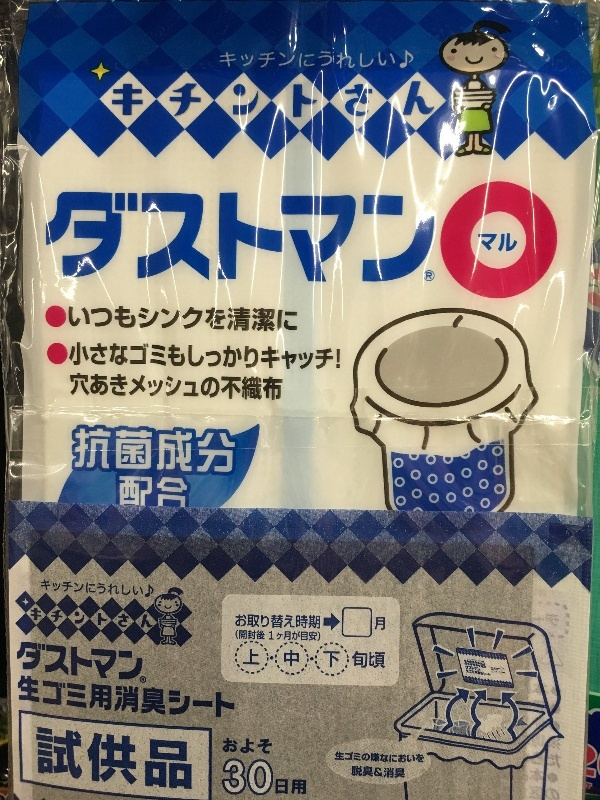text: (49, 183, 64, 289), (65, 183, 80, 289), (81, 183, 96, 289), (97, 183, 112, 289), (113, 183, 128, 289), (129, 183, 144, 289), (145, 183, 160, 289), (161, 183, 176, 289), (177, 183, 192, 289), (193, 183, 208, 289), (209, 183, 224, 289), (225, 183, 240, 289), (241, 183, 256, 289), (257, 183, 272, 289), (273, 183, 288, 289), (289, 183, 304, 289), (305, 183, 320, 289), (321, 183, 336, 289), (337, 183, 352, 289), (353, 183, 368, 289), (369, 183, 384, 289), (385, 183, 400, 289), (401, 183, 416, 289), (417, 183, 432, 289), (177, 724, 193, 794), (49, 724, 64, 794), (65, 724, 80, 794), (81, 724, 96, 794), (97, 724, 112, 794), (113, 724, 128, 794), (129, 724, 144, 794), (145, 724, 160, 794), (161, 724, 176, 794), (81, 423, 96, 479), (97, 423, 112, 479), (113, 423, 128, 479), (129, 423, 144, 479), (145, 423, 160, 479), (161, 423, 176, 479), (177, 423, 192, 479), (193, 423, 208, 479), (209, 423, 224, 479), (37, 724, 48, 794), (17, 673, 32, 724), (33, 673, 48, 724), (49, 673, 64, 724), (65, 673, 80, 724), (81, 673, 96, 724), (97, 673, 112, 724), (113, 673, 128, 724), (129, 673, 144, 724), (145, 673, 160, 724), (161, 673, 176, 724), (177, 673, 192, 724), (193, 673, 208, 724), (209, 673, 224, 724), (113, 75, 128, 122), (129, 75, 144, 122), (145, 75, 160, 122), (161, 75, 176, 122), (177, 75, 192, 122), (193, 75, 208, 122), (209, 75, 224, 122), (225, 75, 240, 122), (241, 75, 256, 122), (257, 75, 272, 122), (273, 75, 288, 122), (289, 75, 304, 122), (305, 75, 320, 122), (321, 75, 336, 122), (337, 75, 352, 122), (353, 75, 368, 122), (369, 75, 384, 122), (385, 75, 400, 122), (401, 75, 416, 122), (417, 75, 432, 122), (225, 423, 237, 479), (17, 640, 32, 684), (33, 640, 48, 684), (49, 640, 64, 684), (65, 640, 80, 684), (81, 640, 96, 684), (97, 640, 112, 684), (113, 640, 128, 684), (129, 640, 143, 684), (225, 673, 237, 724), (225, 758, 240, 796), (241, 758, 256, 796), (257, 758, 272, 796), (81, 369, 96, 405), (97, 369, 112, 405), (113, 369, 128, 405), (129, 369, 144, 405), (145, 369, 160, 405), (161, 369, 176, 405), (177, 369, 192, 405), (193, 369, 208, 405), (209, 369, 224, 405), (225, 369, 240, 405), (241, 369, 256, 405), (257, 369, 272, 405), (433, 183, 438, 289), (129, 475, 144, 510), (145, 475, 160, 510), (161, 475, 176, 510), (81, 304, 96, 336), (97, 304, 112, 336), (113, 304, 128, 336), (129, 304, 144, 336), (145, 304, 160, 336), (161, 304, 176, 336), (177, 304, 192, 336), (193, 304, 208, 336), (209, 304, 224, 336), (225, 304, 240, 336), (241, 304, 256, 336), (257, 304, 272, 336), (273, 304, 288, 336), (81, 342, 96, 373), (97, 342, 112, 373), (113, 342, 128, 373), (129, 342, 144, 373), (145, 342, 160, 373), (161, 342, 176, 373), (177, 342, 192, 373), (193, 342, 208, 373), (209, 342, 224, 373), (225, 342, 240, 373), (241, 342, 256, 373), (257, 342, 272, 373), (273, 342, 288, 373), (289, 342, 304, 373), (305, 342, 320, 373), (321, 342, 336, 373), (177, 475, 190, 510), (72, 423, 80, 479), (69, 369, 80, 405), (273, 369, 284, 405), (68, 304, 80, 336), (68, 342, 80, 373), (257, 736, 273, 758), (118, 475, 128, 510), (225, 48, 240, 71), (241, 48, 256, 71), (257, 48, 272, 71), (273, 48, 288, 71), (289, 48, 304, 71), (305, 48, 320, 71), (321, 48, 336, 71), (337, 48, 352, 71), (353, 48, 368, 71), (369, 48, 384, 71), (33, 607, 48, 630), (49, 607, 64, 630), (65, 607, 80, 630), (81, 607, 96, 630), (97, 607, 112, 630), (113, 607, 128, 630), (129, 607, 144, 630), (353, 649, 368, 671), (369, 649, 384, 671), (225, 736, 240, 758), (241, 736, 256, 758), (289, 304, 299, 336), (45, 183, 48, 289), (481, 233, 496, 254), (497, 233, 512, 254), (289, 776, 304, 797), (49, 578, 64, 598), (65, 578, 80, 598), (81, 578, 96, 598), (97, 578, 112, 598), (113, 578, 128, 598), (465, 659, 480, 678), (129, 578, 143, 598), (305, 615, 321, 631), (385, 48, 396, 71), (276, 776, 288, 797), (241, 615, 256, 631), (257, 615, 272, 631), (273, 615, 288, 631), (289, 615, 304, 631), (305, 628, 321, 643), (353, 764, 368, 780), (369, 764, 384, 780), (385, 764, 400, 780), (241, 628, 256, 643), (257, 628, 272, 643), (273, 628, 288, 643), (289, 628, 304, 643), (243, 649, 256, 666), (337, 751, 352, 765), (353, 751, 368, 765), (369, 751, 384, 765), (385, 751, 400, 765), (401, 751, 416, 765), (289, 649, 300, 668), (481, 659, 492, 678), (324, 651, 336, 668), (145, 607, 153, 630), (337, 342, 342, 373), (374, 617, 384, 632), (433, 75, 436, 122), (41, 578, 48, 598), (417, 751, 425, 765), (513, 233, 518, 254), (283, 649, 288, 668), (220, 48, 224, 71), (401, 764, 406, 780), (235, 628, 240, 643), (236, 615, 240, 631), (305, 776, 308, 797), (257, 649, 260, 666), (337, 651, 340, 668), (426, 272, 432, 280), (478, 233, 480, 254), (273, 758, 274, 796), (31, 607, 32, 630), (385, 649, 386, 671), (223, 736, 224, 758), (463, 659, 464, 678), (335, 751, 336, 765), (142, 677, 144, 682)
